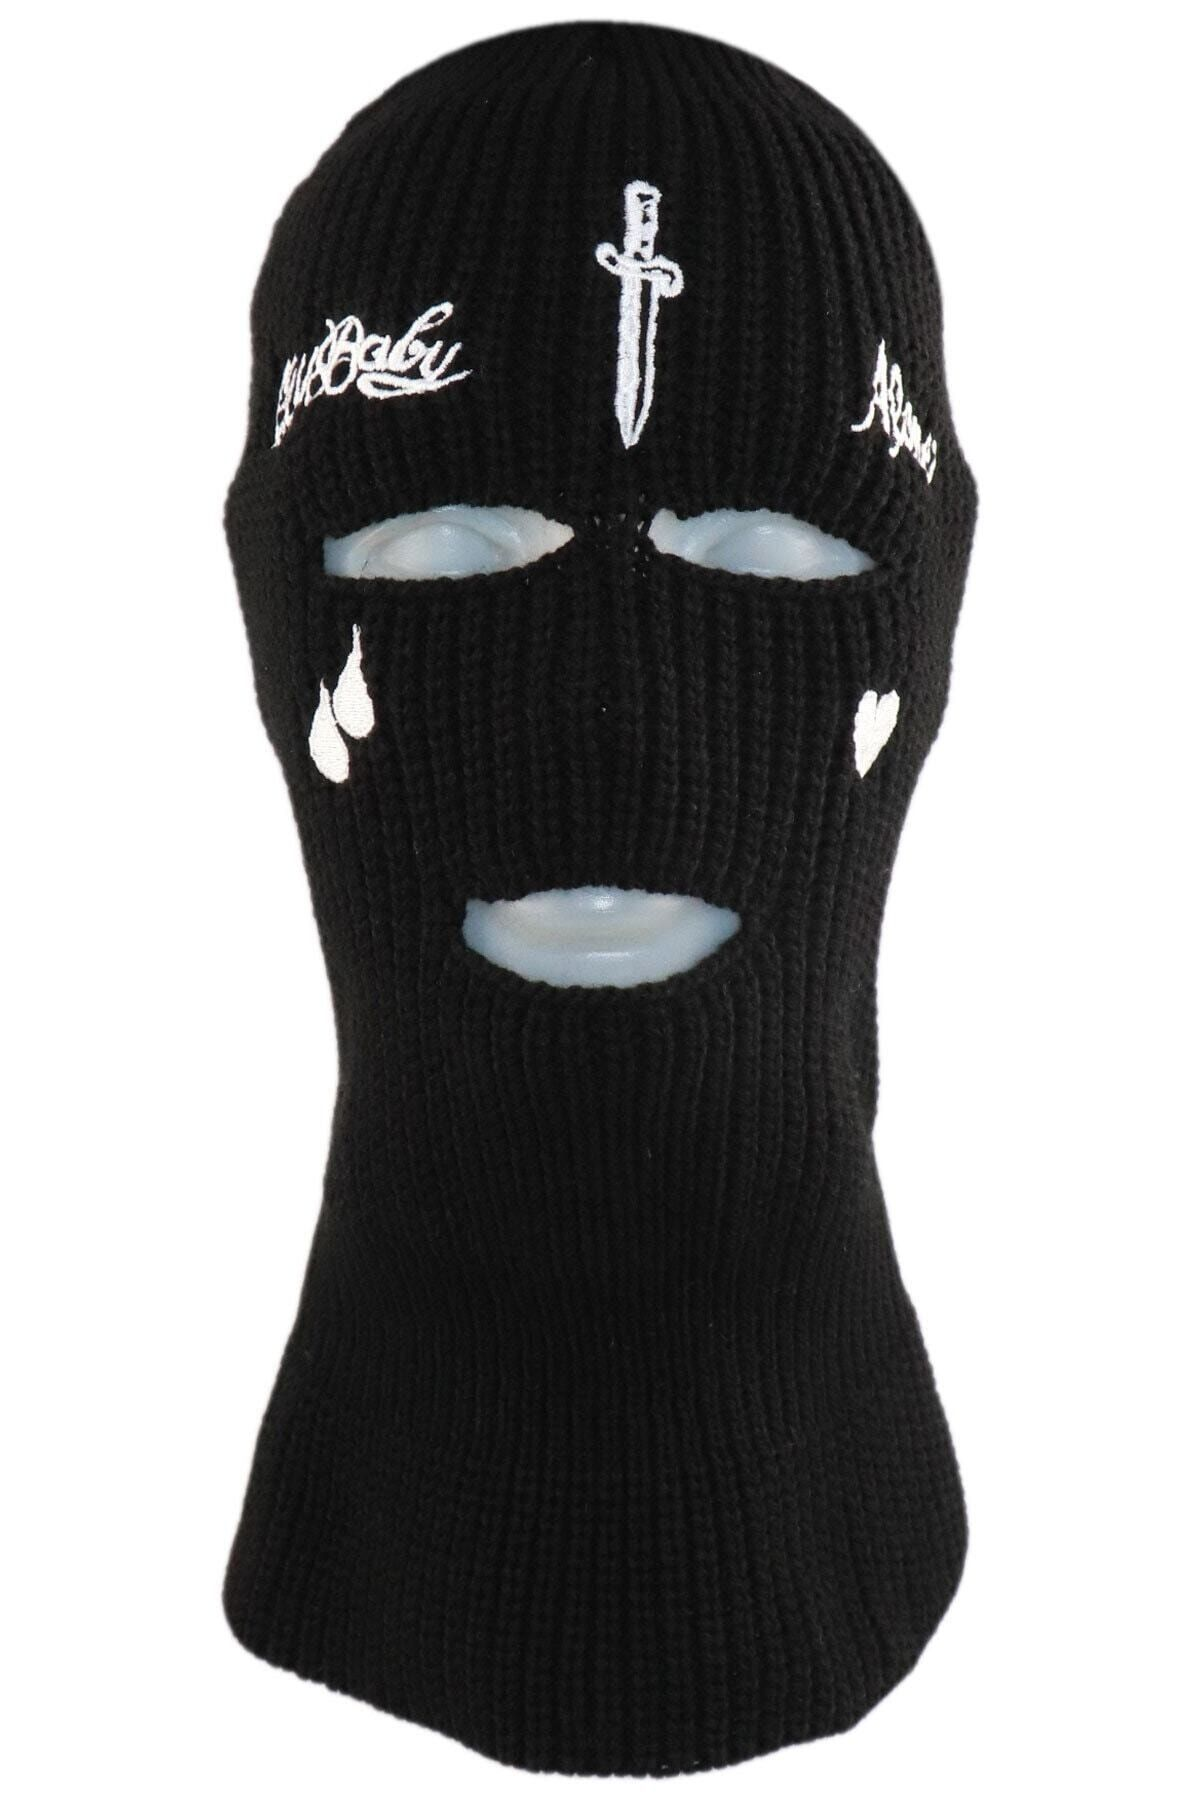maske: (200, 31, 974, 1133)
